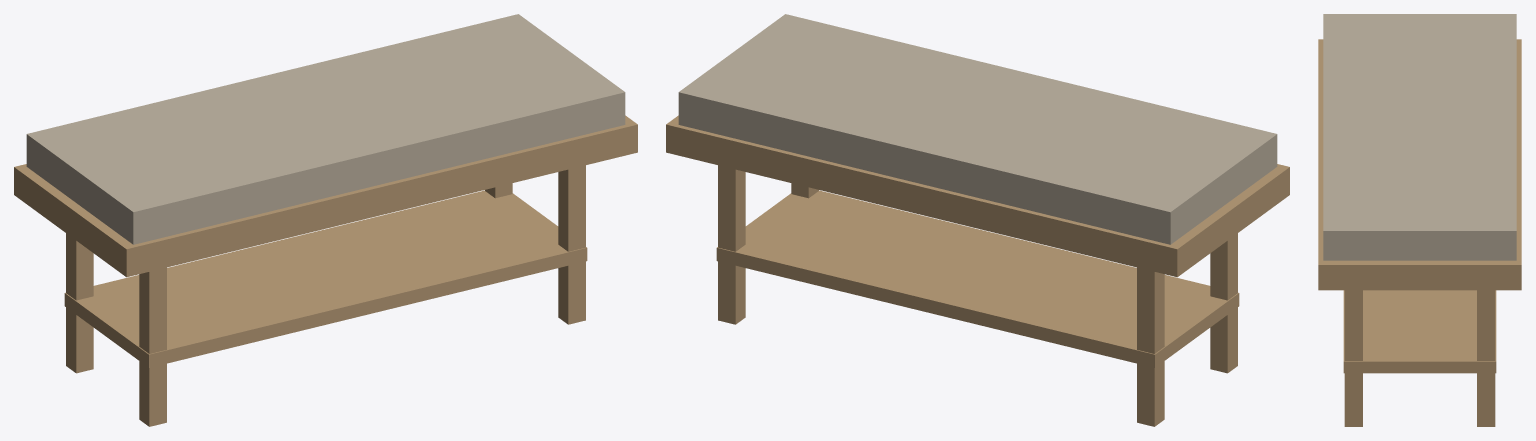
File: bench-lightweight-7b447fc83e.glb
The picture shows the model from 3 angles, left to right: view 1: azimuth 30°, elevation 25°; view 2: azimuth 150°, elevation 25°; view 3: azimuth 270°, elevation 25°; orthographic projection. The views are drawn at different scales.
Visible parts, largest first — view 1: oak, textile; view 2: oak, textile; view 3: textile, oak.
Part boxes in pixels (x1=…): oak: x1=14, y1=115, x2=637, y2=426; textile: x1=26, y1=14, x2=625, y2=244; oak: x1=666, y1=115, x2=1289, y2=426; textile: x1=678, y1=14, x2=1277, y2=244; textile: x1=1323, y1=14, x2=1516, y2=260; oak: x1=1318, y1=39, x2=1521, y2=426.
Bounding box in the file's own units: 1.05 × 0.4515 × 0.4.
